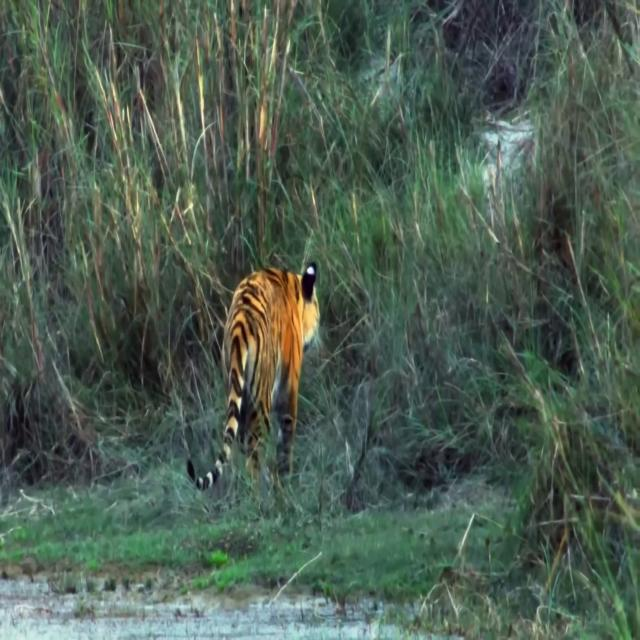tiger: (186, 259, 323, 496)
